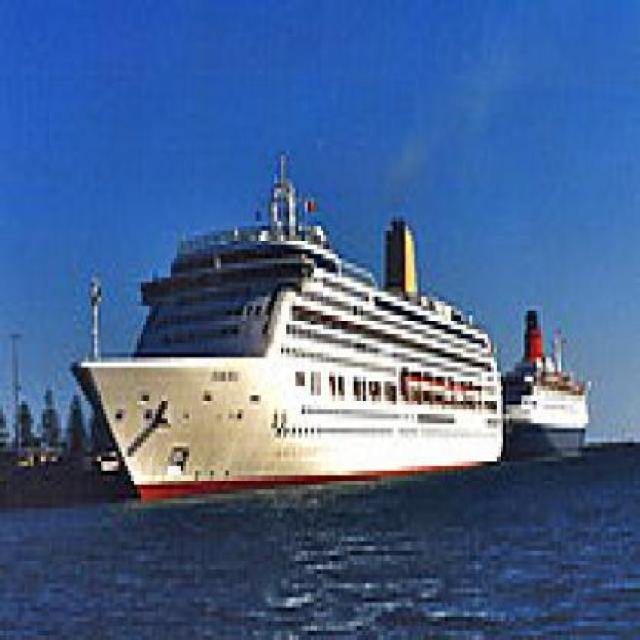cruise: (56, 128, 513, 505)
